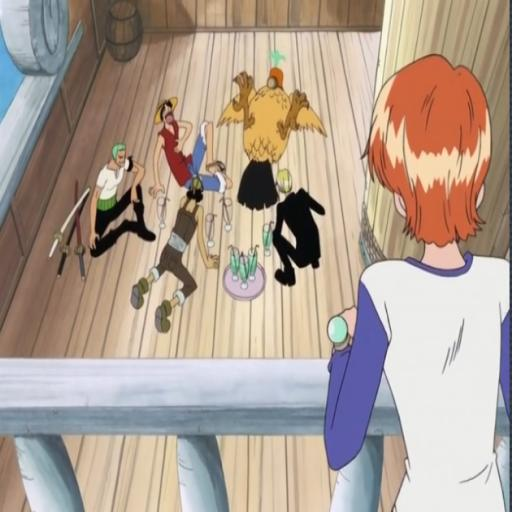Luffy: (149, 92, 231, 196)
Nami: (322, 34, 512, 512)
Usopp: (126, 170, 222, 337)
Zoro: (88, 139, 157, 257)
sanji: (267, 167, 328, 288)
